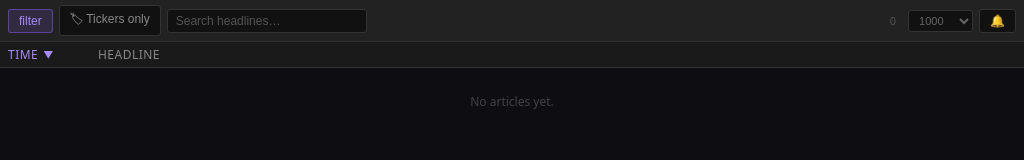
Ticker mode toggle › clicking toggle switches from filter to select
Click the button with test id "ticker-mode-toggle". click: [30, 20]
box: top-left (8, 8), bottom-right (53, 32)
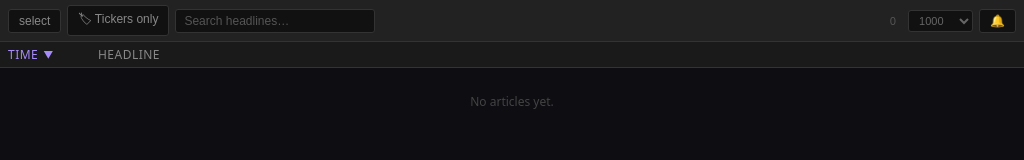
Result: the button with test id "ticker-mode-toggle" reads "select" at top-left (8, 8), bottom-right (61, 32)
